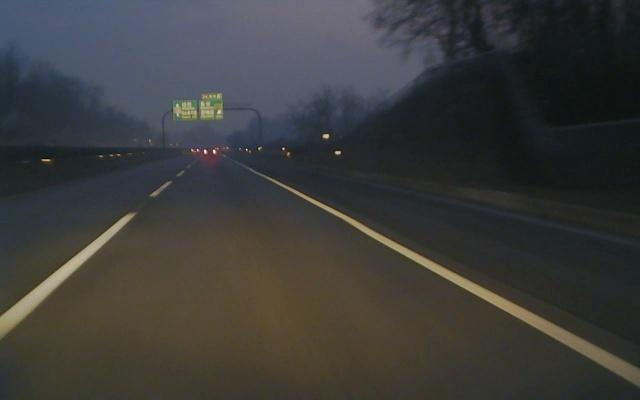lane: (237, 162, 640, 388), (0, 166, 190, 341)
